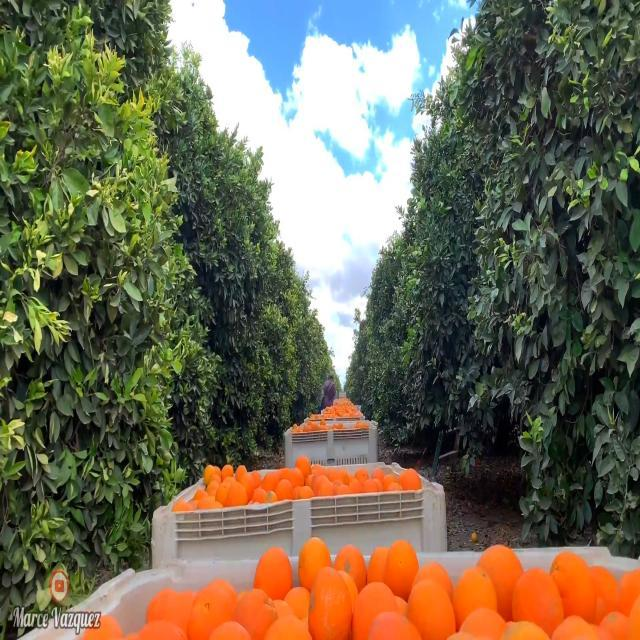Jeruk Sudah Matang: (508, 568, 565, 633), (450, 568, 500, 629), (253, 544, 294, 597), (384, 539, 419, 588), (298, 534, 332, 583), (337, 543, 368, 585)
